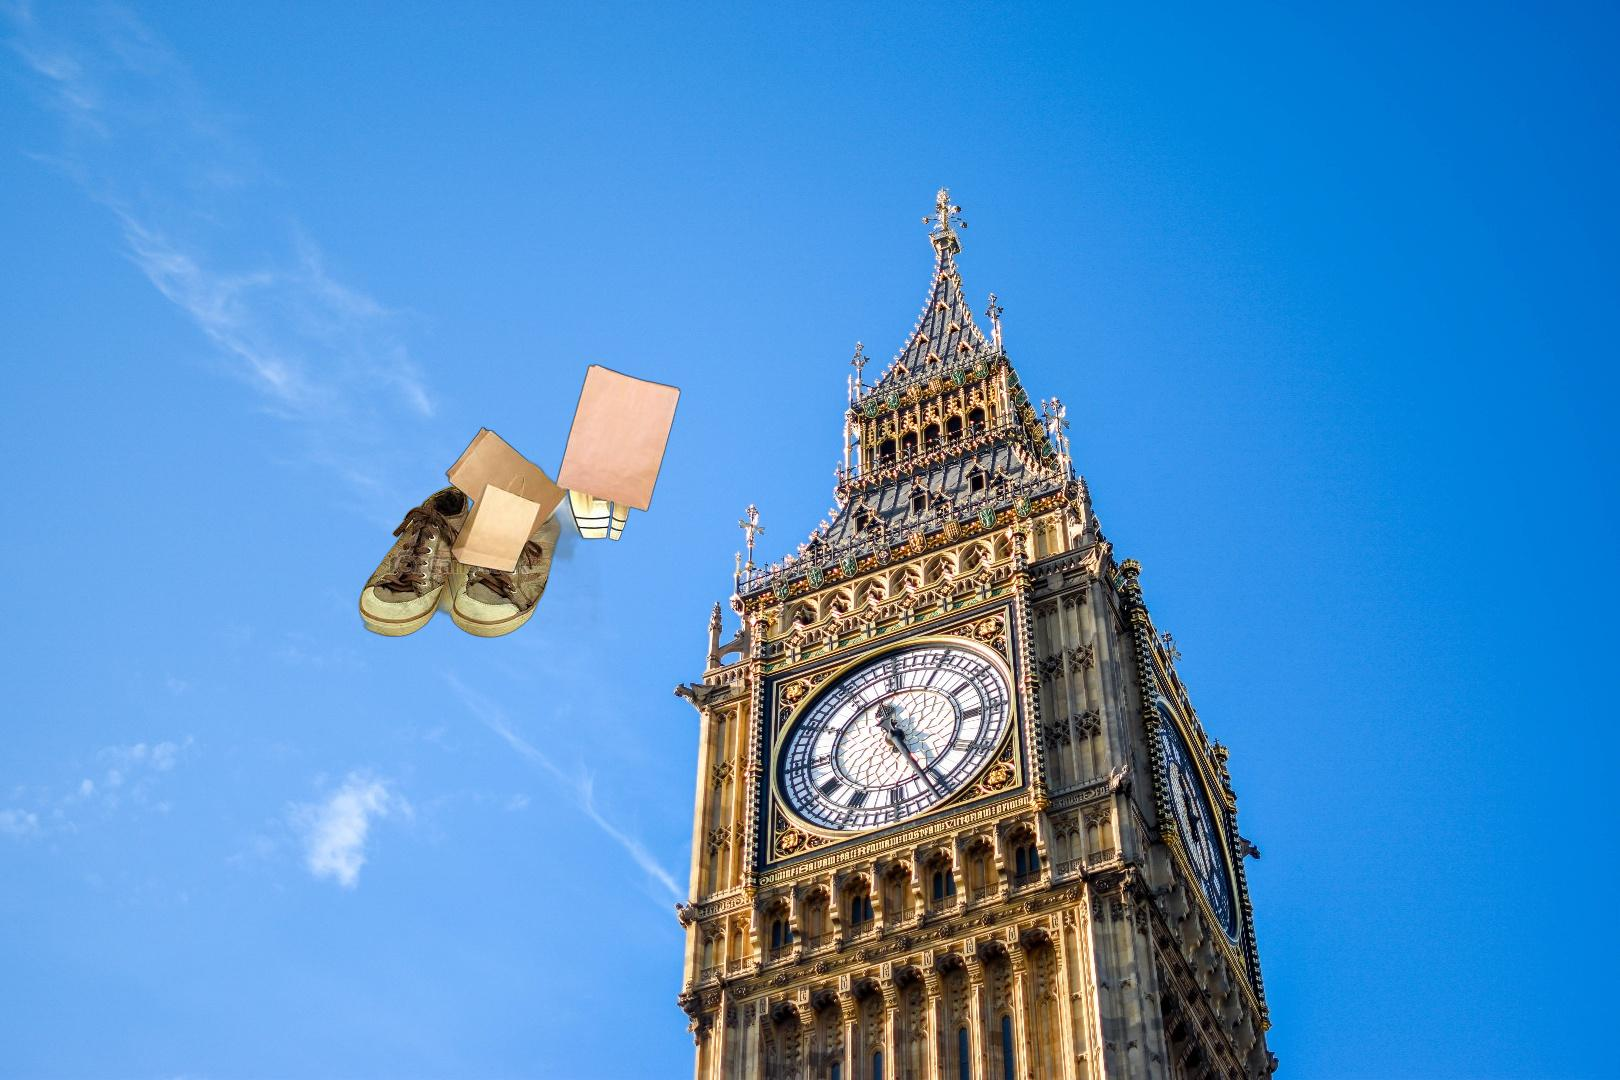paper: (1609, 959, 1620, 1080)
paper-bag: (422, 341, 683, 641)
shoes: (356, 483, 565, 640)
